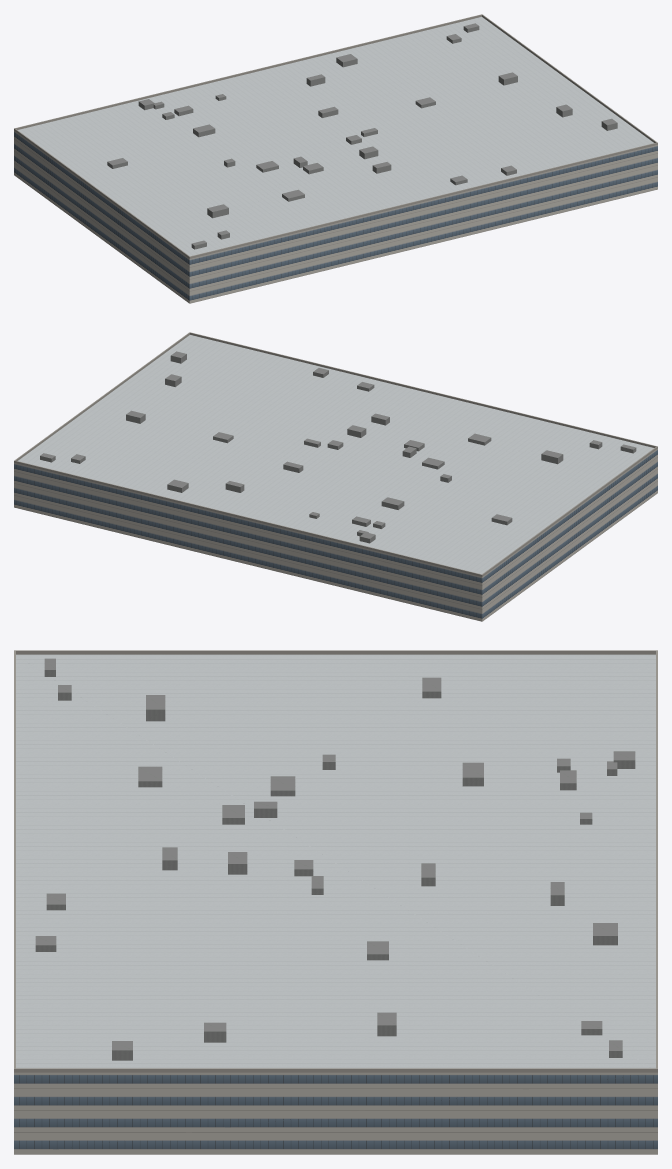
File: khsv_terminal.glb
3 views of the same model, one above another, from view 1: azimuth 30°, elevation 25°; view 2: azimuth 150°, elevation 25°; view 3: azimuth 270°, elevation 25° (orthographic). The views are drawn at different scales.
Visible parts, largest first — view 1: khsv_terminal_roof, khsv_terminal_office_wall, khsv_terminal_plant, khsv_terminal_coping; view 2: khsv_terminal_roof, khsv_terminal_office_wall, khsv_terminal_plant, khsv_terminal_coping; view 3: khsv_terminal_roof, khsv_terminal_office_wall, khsv_terminal_plant, khsv_terminal_coping.
Part boxes in pixels (x1,y1,x2,y2): khsv_terminal_roof: (18,17,653,256); khsv_terminal_office_wall: (14,130,657,303); khsv_terminal_plant: (107,23,617,249); khsv_terminal_coping: (14,14,657,258); khsv_terminal_roof: (18,335,653,574); khsv_terminal_office_wall: (14,448,657,621); khsv_terminal_plant: (40,351,636,543); khsv_terminal_coping: (14,332,657,576); khsv_terminal_roof: (16,654,655,1068); khsv_terminal_office_wall: (14,1072,657,1154); khsv_terminal_plant: (35,658,635,1060); khsv_terminal_coping: (14,650,657,1072).
Bounding box in the file's own units: 197 × 20.5 × 128.
4 materials, 4 textured.
